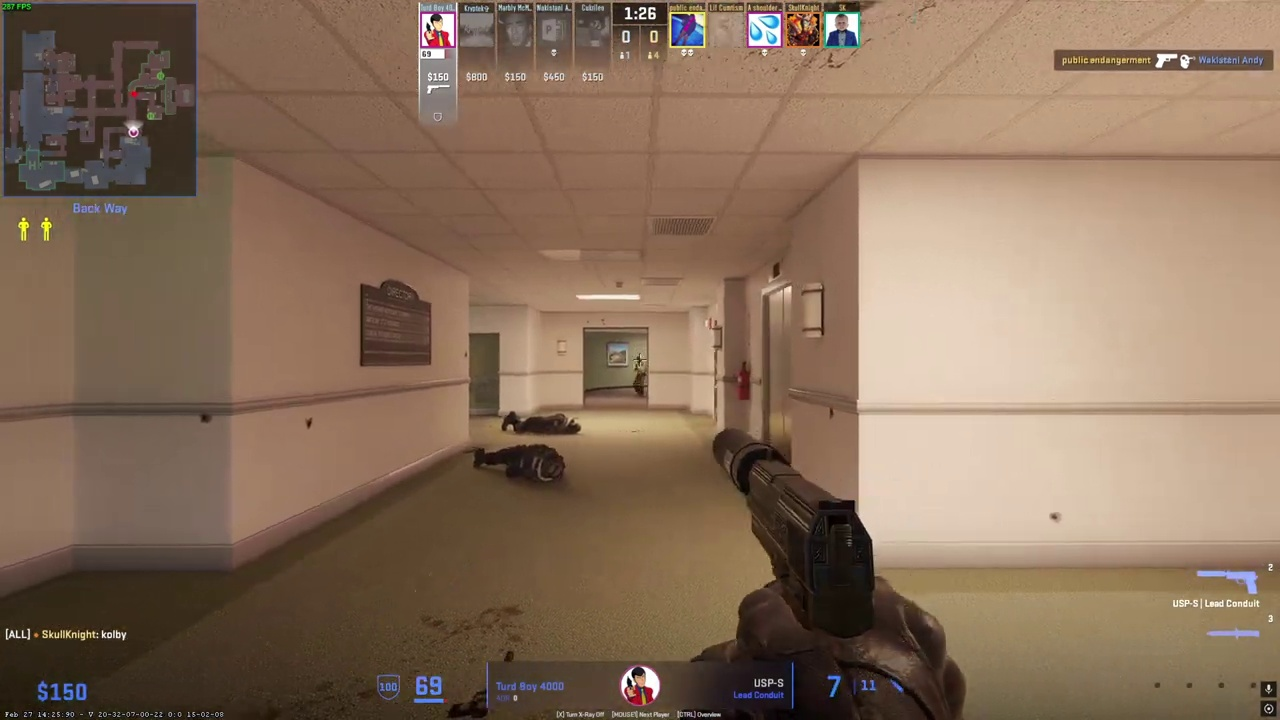Terrorist: (632, 356, 647, 397)
